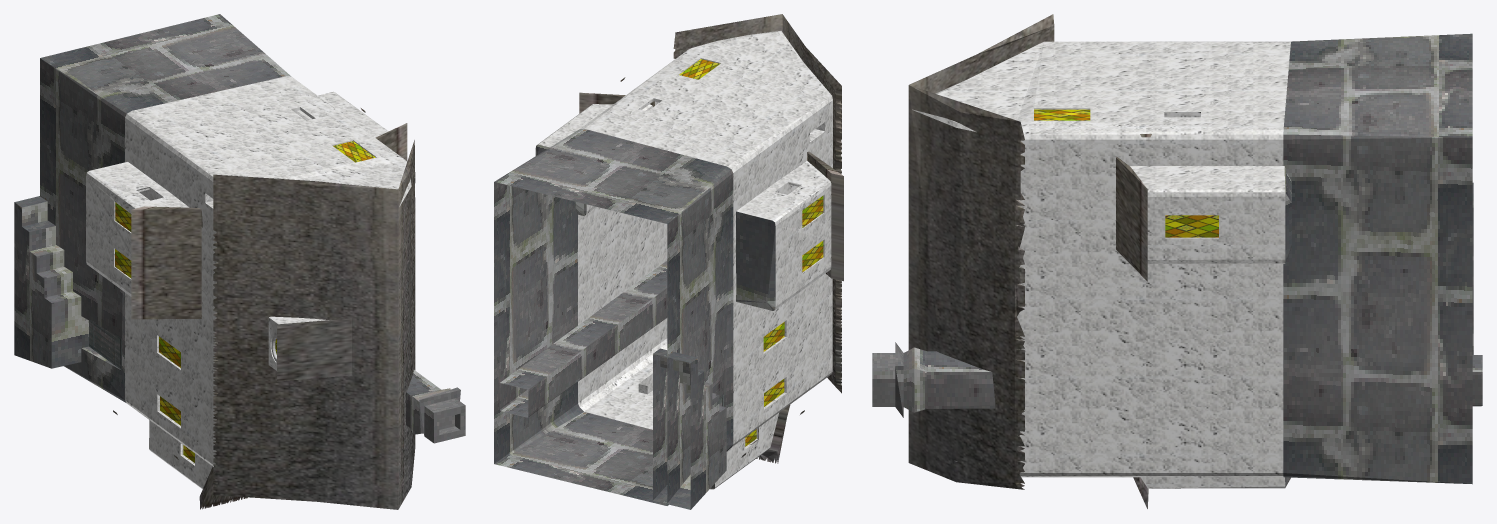
Rendered from HausBurk2k_wtf.obj.
The picture shows the model from 3 angles, left to right: view 1: azimuth 30°, elevation 25°; view 2: azimuth 150°, elevation 25°; view 3: azimuth 270°, elevation 25°; orthographic projection. The views are drawn at different scales.
Parts seen in each view (by area): view 1: group7, group3, group4, group5, group6, group8; view 2: group4, group3, group7, group5; view 3: group3, group4, group7, group5.
Boxes of the visible parts, box(x1,y1,x2,y2) form: group7: box(131, 123, 415, 509); group3: box(86, 76, 411, 489); group4: box(14, 14, 465, 443); group5: box(115, 141, 375, 462); group6: box(89, 320, 121, 370); group8: box(113, 108, 365, 509); group4: box(494, 128, 775, 509); group3: box(537, 31, 832, 488); group7: box(579, 14, 843, 463); group5: box(679, 59, 823, 446); group3: box(912, 41, 1290, 488); group4: box(872, 33, 1482, 487); group7: box(908, 14, 1148, 508); group5: box(1034, 109, 1218, 237).
Size of the model in its own units: 406 by 522 by 660.
